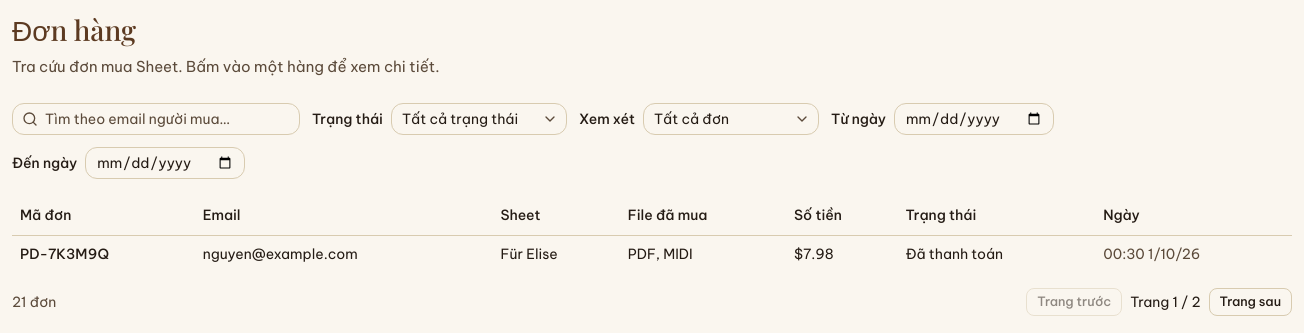
Test: Trang /orders — bảng › phân trang và trạng thái rỗng
Expected: the row "PD-7K3M9Q" is shown, [12,235,1292,272]
Expected: the text "Trang 1 / 2" is shown, [1130,292,1200,312]
Click the button "Trang sau" at coordinates (1250, 302), box [1208,288,1292,316]
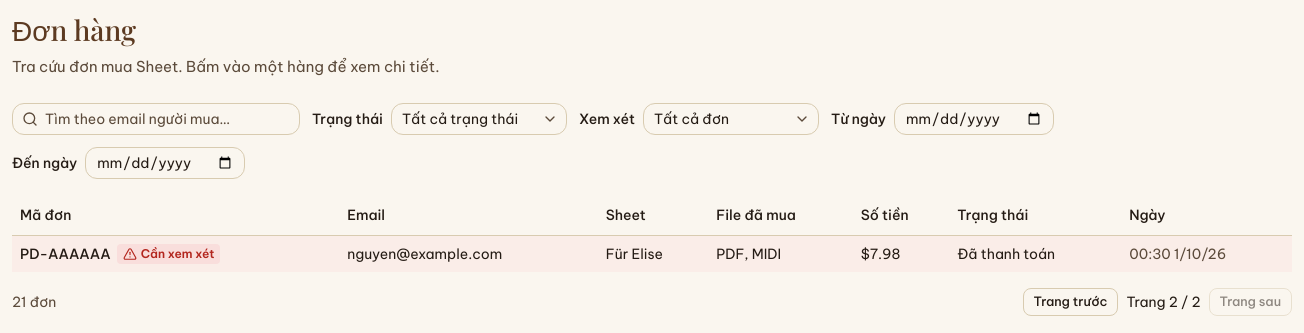
Now the row "PD-AAAAAA" is shown, box [12,235,1292,272]
